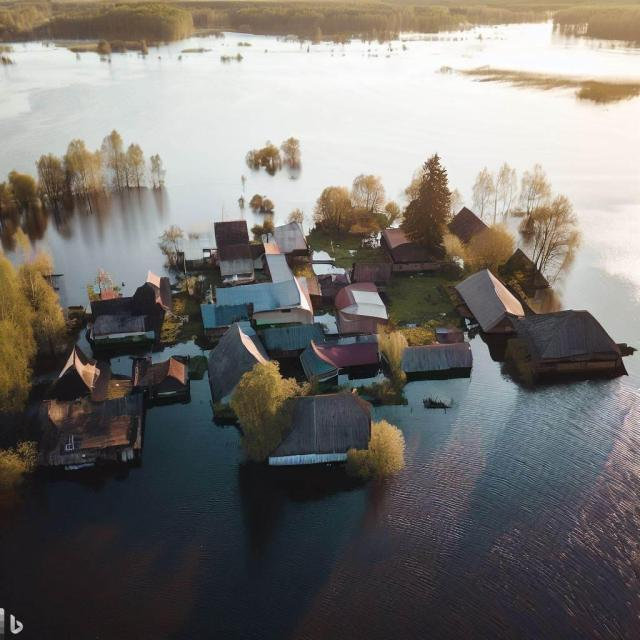flood: (0, 22, 640, 348), (0, 337, 640, 640)
house: (264, 393, 374, 473), (516, 307, 621, 381), (208, 320, 270, 409), (64, 406, 146, 472), (451, 266, 525, 333), (394, 323, 475, 380), (90, 292, 163, 348), (307, 330, 382, 380), (446, 204, 505, 262), (213, 219, 265, 281), (379, 226, 442, 272), (336, 284, 386, 332), (52, 344, 98, 394), (306, 254, 351, 300), (263, 324, 326, 356)
